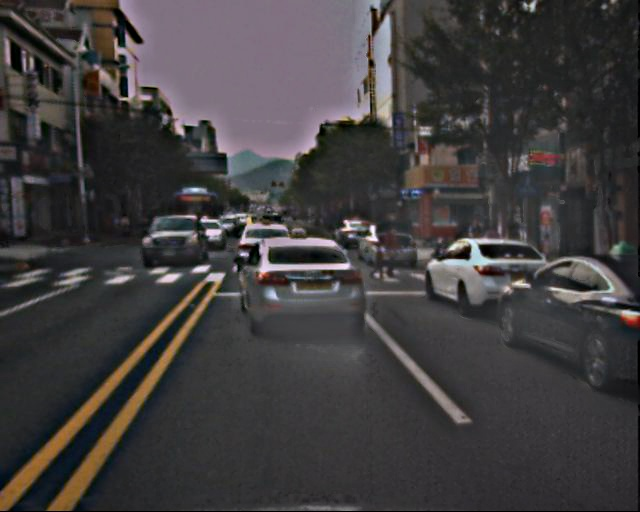person: (378, 223, 401, 279), (469, 216, 488, 263), (370, 248, 385, 284)
